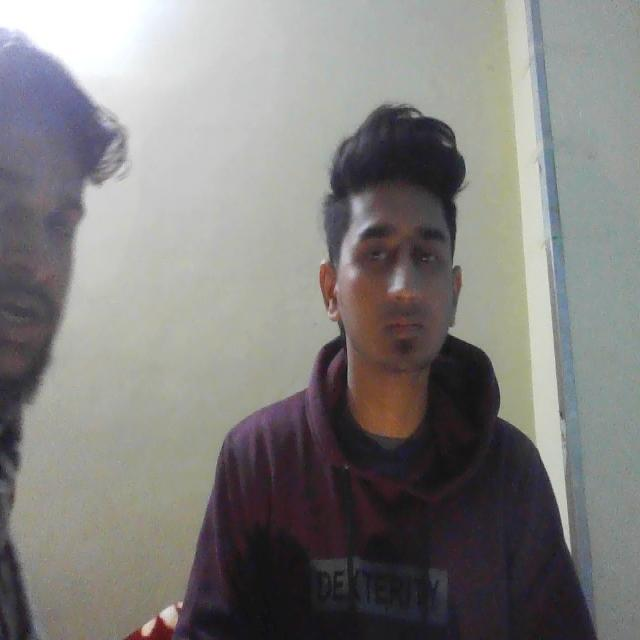real: (324, 130, 470, 406)
